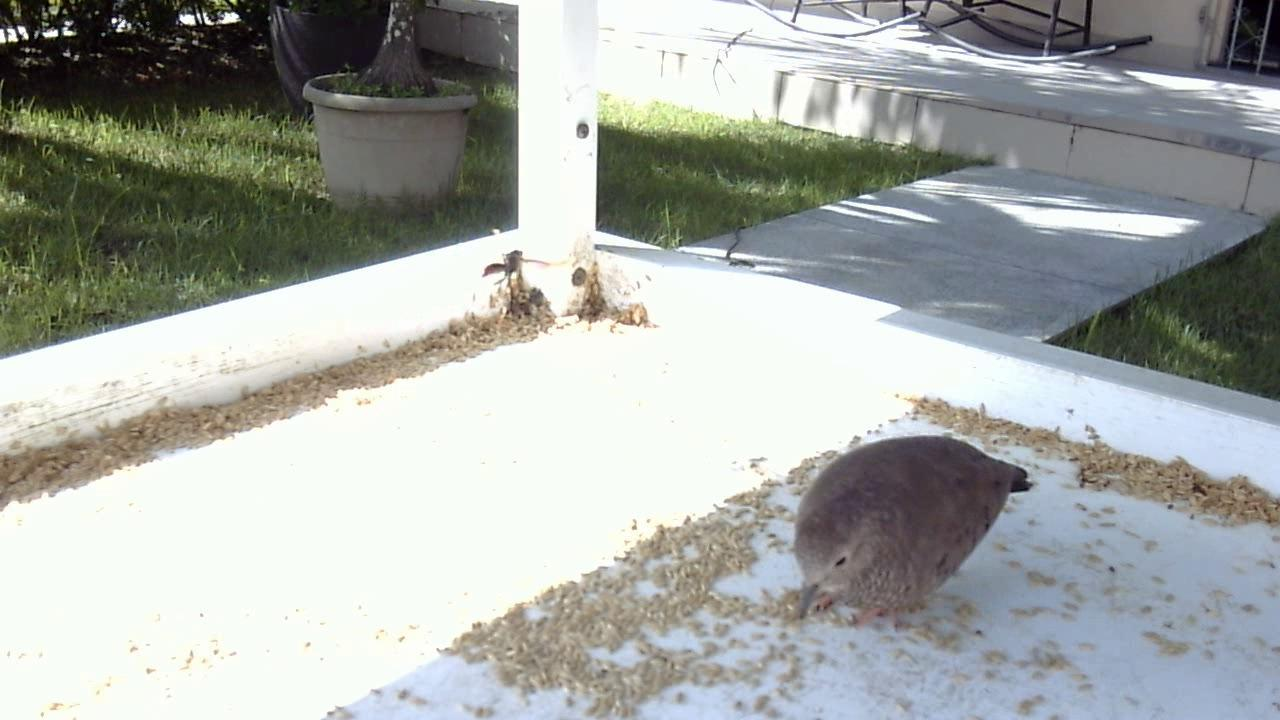rolinha: (785, 423, 1034, 636)
